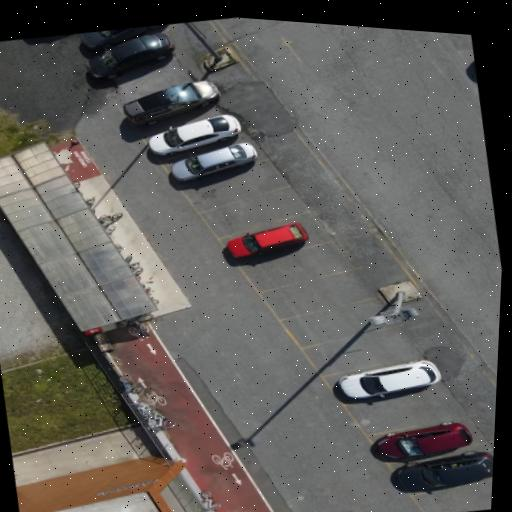car: (124, 81, 220, 125), (392, 451, 492, 492), (339, 360, 441, 398), (88, 33, 174, 78), (375, 421, 472, 459), (149, 115, 240, 155), (172, 143, 257, 181), (227, 223, 308, 257), (80, 25, 162, 49)
